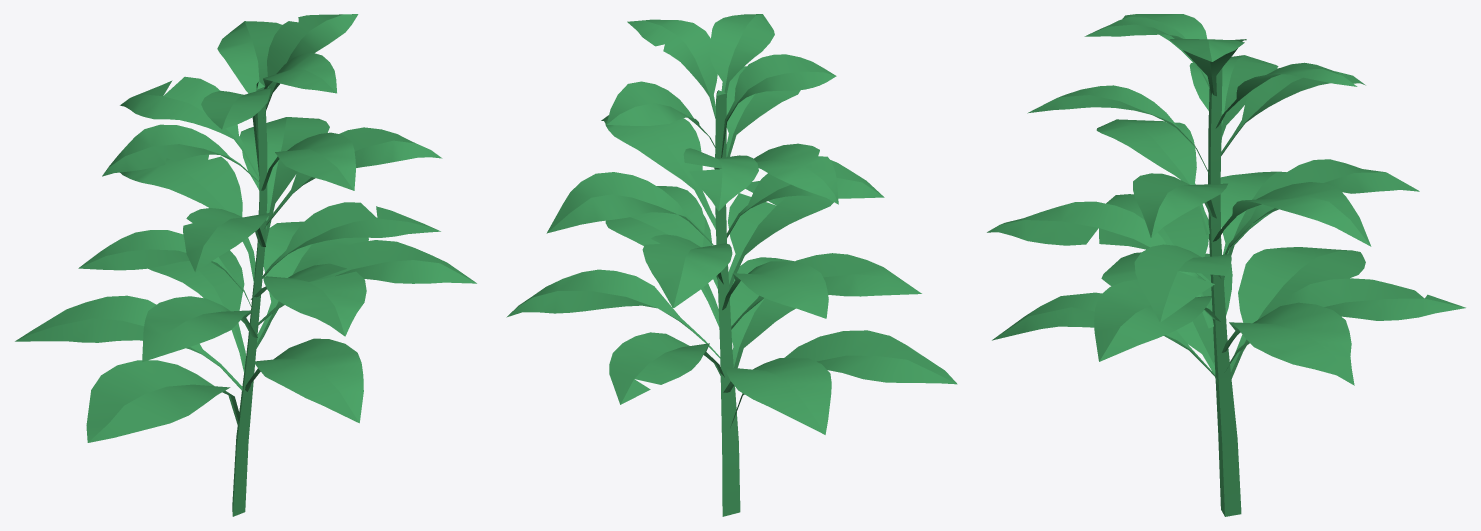
File: plant_rubber_A.fbx
3 renders of one model, left to right at view 1: azimuth 30°, elevation 25°; view 2: azimuth 150°, elevation 25°; view 3: azimuth 270°, elevation 25°, orthographic. The views are drawn at different scales.
Visible parts, largest first — view 1: plant_rubber_A, plant_rubber_A_twig; view 2: plant_rubber_A, plant_rubber_A_twig; view 3: plant_rubber_A, plant_rubber_A_twig.
Boxes of the visible parts, <box> form: plant_rubber_A: <box>15,14,476,442</box>; plant_rubber_A_twig: <box>232,81,267,516</box>; plant_rubber_A: <box>506,14,957,434</box>; plant_rubber_A_twig: <box>715,90,740,516</box>; plant_rubber_A: <box>987,14,1465,385</box>; plant_rubber_A_twig: <box>1208,68,1241,516</box>.
Size of the model in its own units: 105 by 129 by 109.
